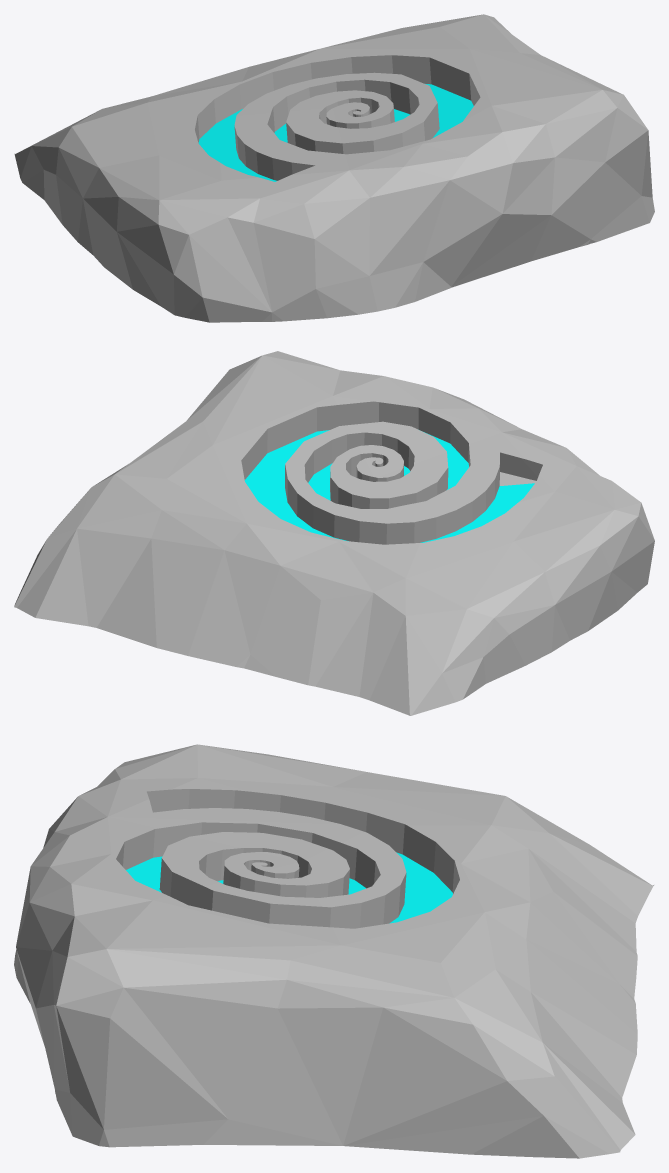
Rendered from Rock_Prop_Tribal_Stone_Altar_Magic_Swirl_01.FBX.
The picture shows the model from 3 angles, top to bottom: view 1: azimuth 30°, elevation 25°; view 2: azimuth 150°, elevation 25°; view 3: azimuth 270°, elevation 25°; orthographic projection. The views are drawn at different scales.
Visible parts, largest first — view 1: Rock_Prop_Tribal_Stone_Altar_Magic_Swirl_01; view 2: Rock_Prop_Tribal_Stone_Altar_Magic_Swirl_01; view 3: Rock_Prop_Tribal_Stone_Altar_Magic_Swirl_01.
Boxes of the visible parts, bbox=[...] form: Rock_Prop_Tribal_Stone_Altar_Magic_Swirl_01: bbox=[14, 14, 654, 322]; Rock_Prop_Tribal_Stone_Altar_Magic_Swirl_01: bbox=[14, 351, 654, 715]; Rock_Prop_Tribal_Stone_Altar_Magic_Swirl_01: bbox=[14, 744, 653, 1158].
Size of the model in its own units: 1838 by 466 by 1623.
